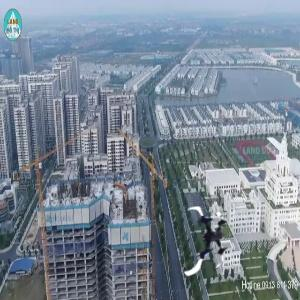drone: (172, 203, 242, 273)
